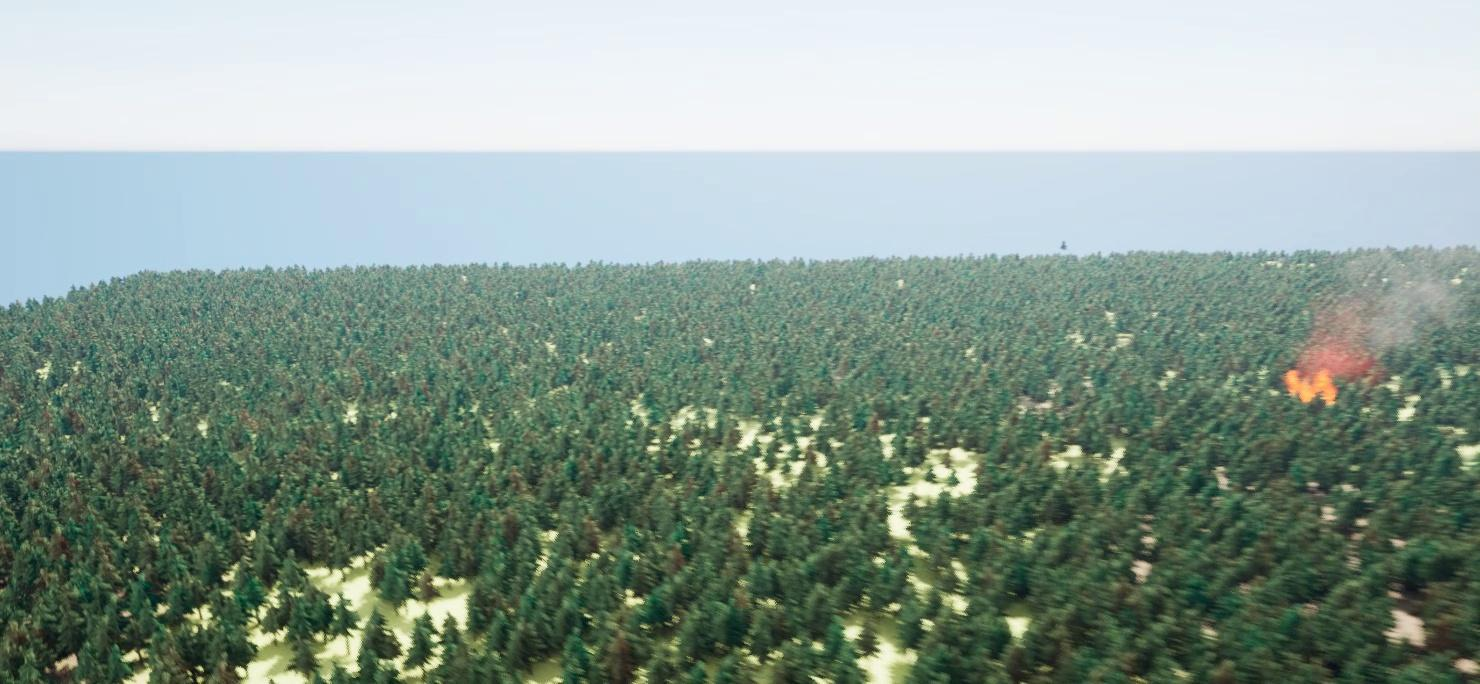fire: (1284, 362, 1339, 408)
smoke: (1303, 249, 1461, 369)
